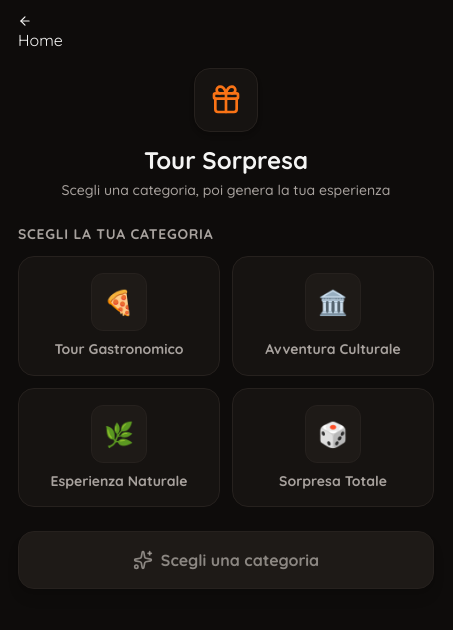
Test case: Sorprendimi → il messaggio
Click the heading "Avventura Culturale": (333, 350) [265, 341, 401, 358]
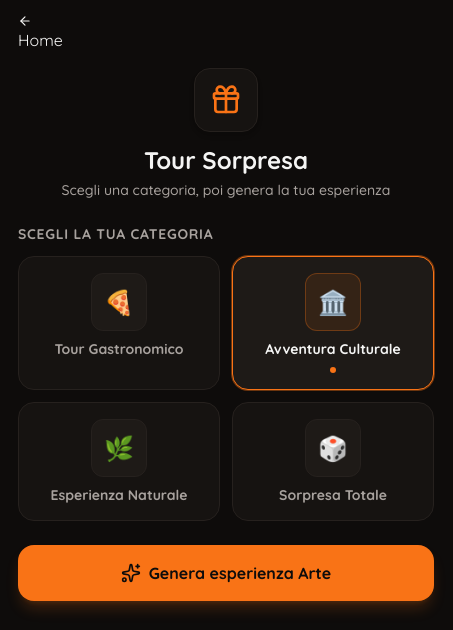
Click the button "Genera esperienza Arte": (226, 573) [18, 545, 434, 601]
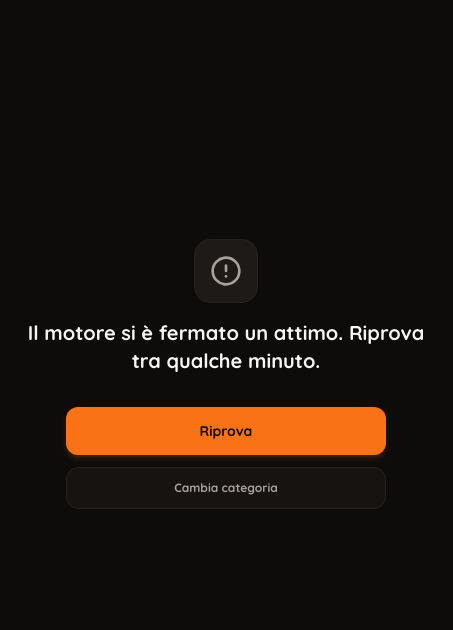
Expected: the heading "Il motore si è fermato un attimo. Riprova tra qualche minuto." is shown, [18, 319, 434, 375]
